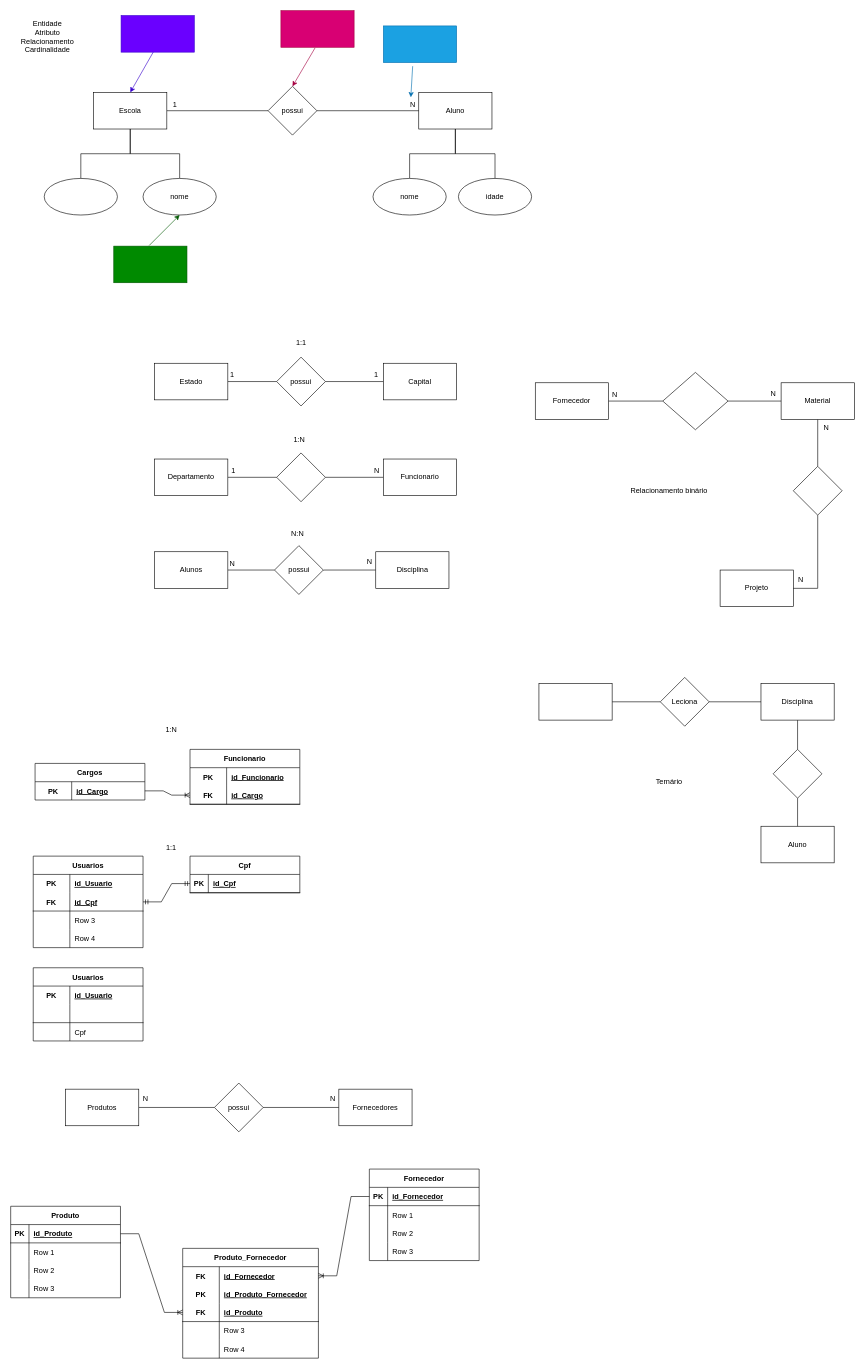
This 865x1369 diagram has some shape labels left out. Each missing label, with the centre of its shape:
"Atributo" belongs at point (150, 264).
"Cardinalidade" belongs at point (420, 44).
"Comercializa" belongs at point (695, 401).
"Cursa" belongs at point (797, 773).
"Entidade" belongs at point (157, 33).
"Professor" belongs at point (575, 701).
"Relacionamento ou ligação entre entidades" belongs at point (317, 28).
"telefone" belongs at point (80, 196).
"tem" belongs at point (300, 477).
"Utilizam" belongs at point (817, 490).
